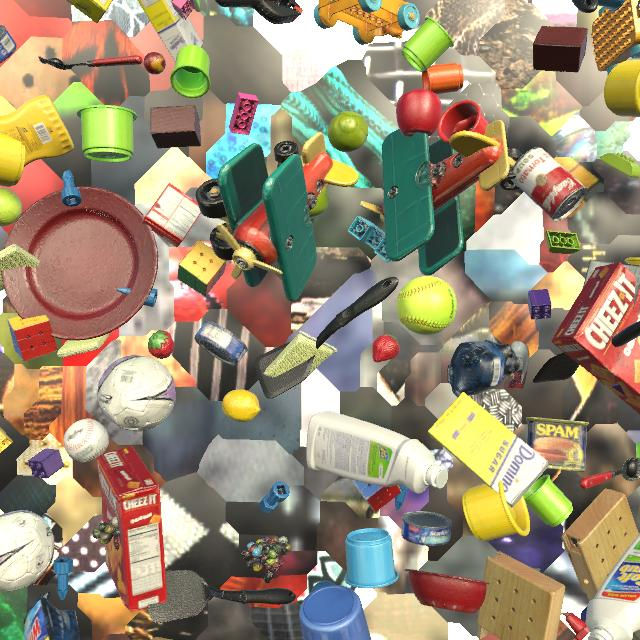ycb_003_cracker_box: (551, 262, 640, 414), (97, 446, 167, 611)
ycb_004_sugar_box: (428, 392, 549, 508), (137, 0, 203, 62), (66, 0, 113, 23)
ycb_005_tomato_soup_can: (511, 147, 588, 222)
ycb_006_mustard_bottle: (0, 94, 74, 167)
ycb_007_tuna_fish_can: (194, 321, 248, 366), (401, 511, 452, 546), (0, 25, 17, 63)
ycb_008_pudding_box: (583, 260, 640, 314)
ycb_009_gelatin_box: (141, 183, 201, 248)
ycb_010_potted_meat_can: (526, 417, 589, 472)
ycb_012_strawberry: (372, 334, 400, 363), (148, 330, 174, 359)
ycb_013_apple: (396, 89, 442, 137)
ycb_014_lemon: (222, 389, 261, 422)
ycb_016_pear: (328, 111, 368, 152), (309, 186, 329, 223)
